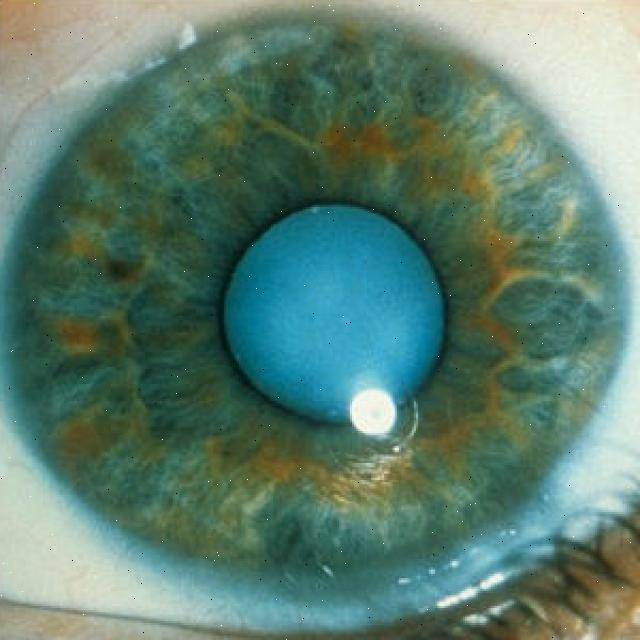Cataract: (0, 11, 634, 614)
